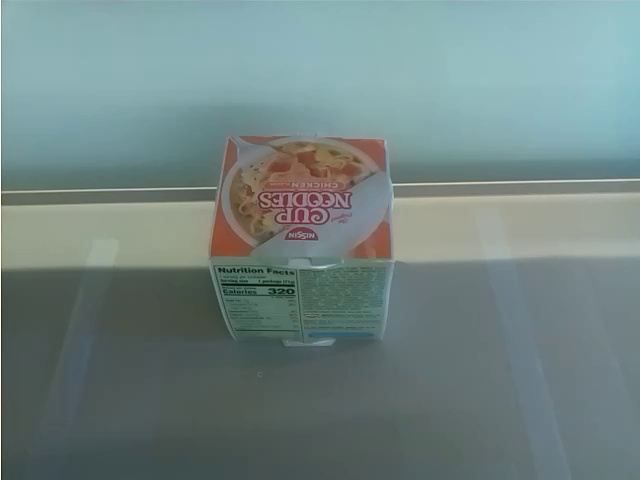noodles: (198, 136, 391, 346)
